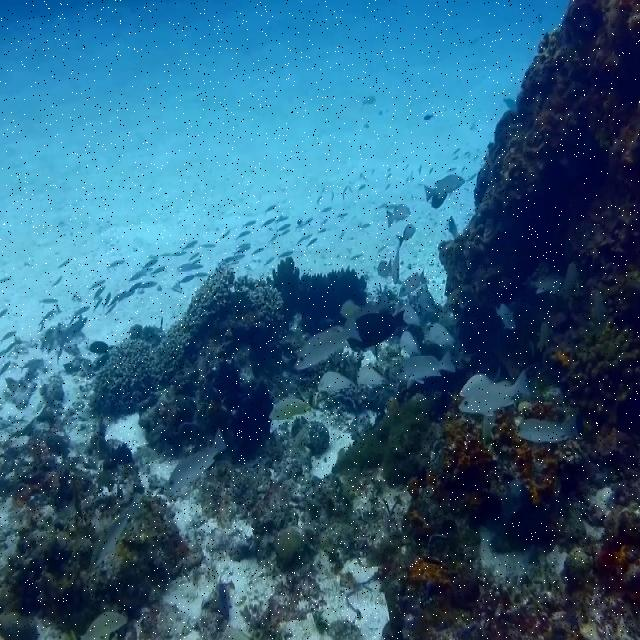fish: (293, 317, 361, 374), (461, 368, 540, 416)
reefs: (437, 3, 639, 481), (272, 393, 639, 637), (93, 259, 407, 457)
